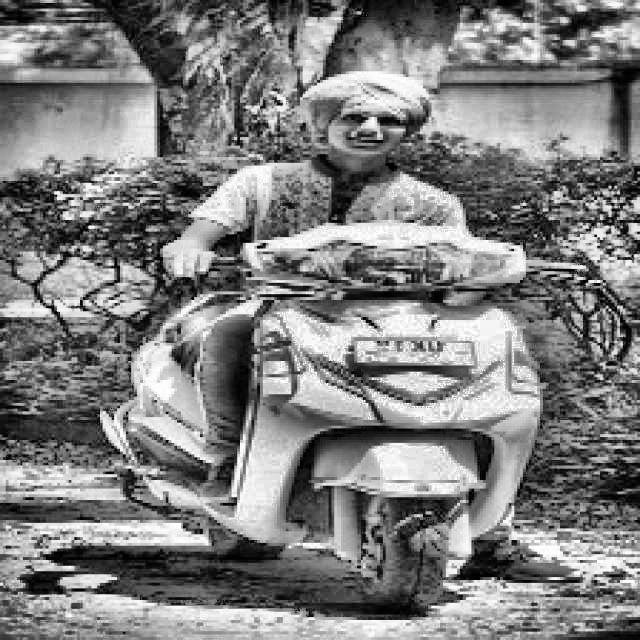motorcycle: (78, 218, 604, 615)
